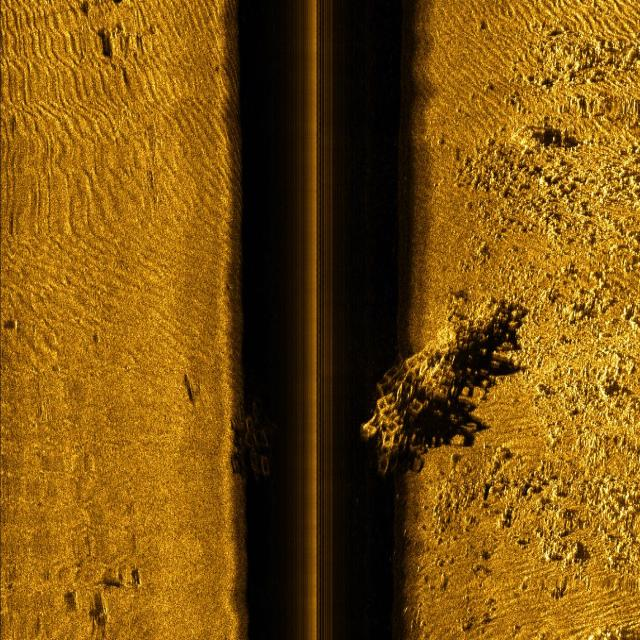artificial reef: (352, 316, 511, 469), (234, 380, 282, 487)
